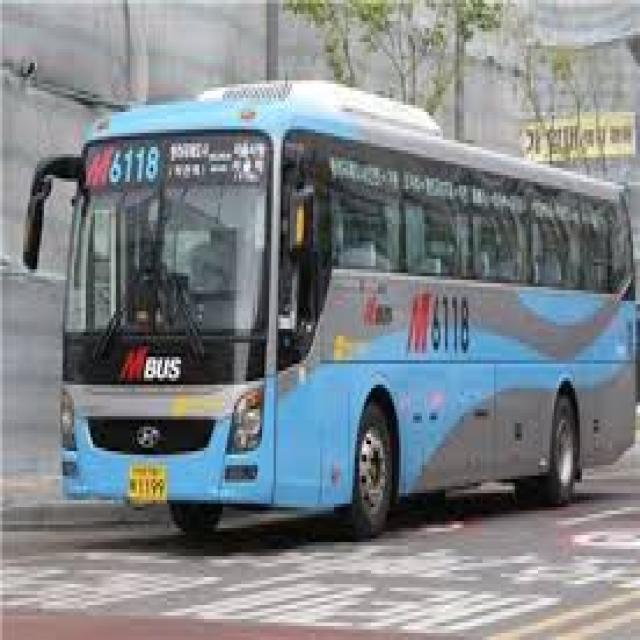bus-number: (108, 143, 161, 185)
